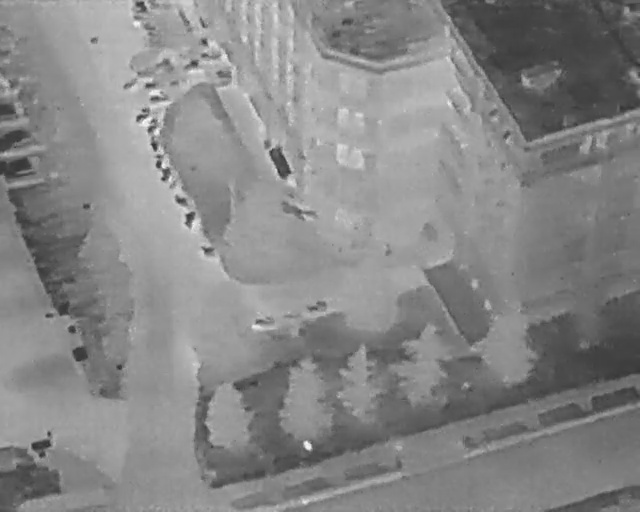Car: (2, 150, 58, 185), (0, 127, 36, 155), (0, 101, 22, 122)
